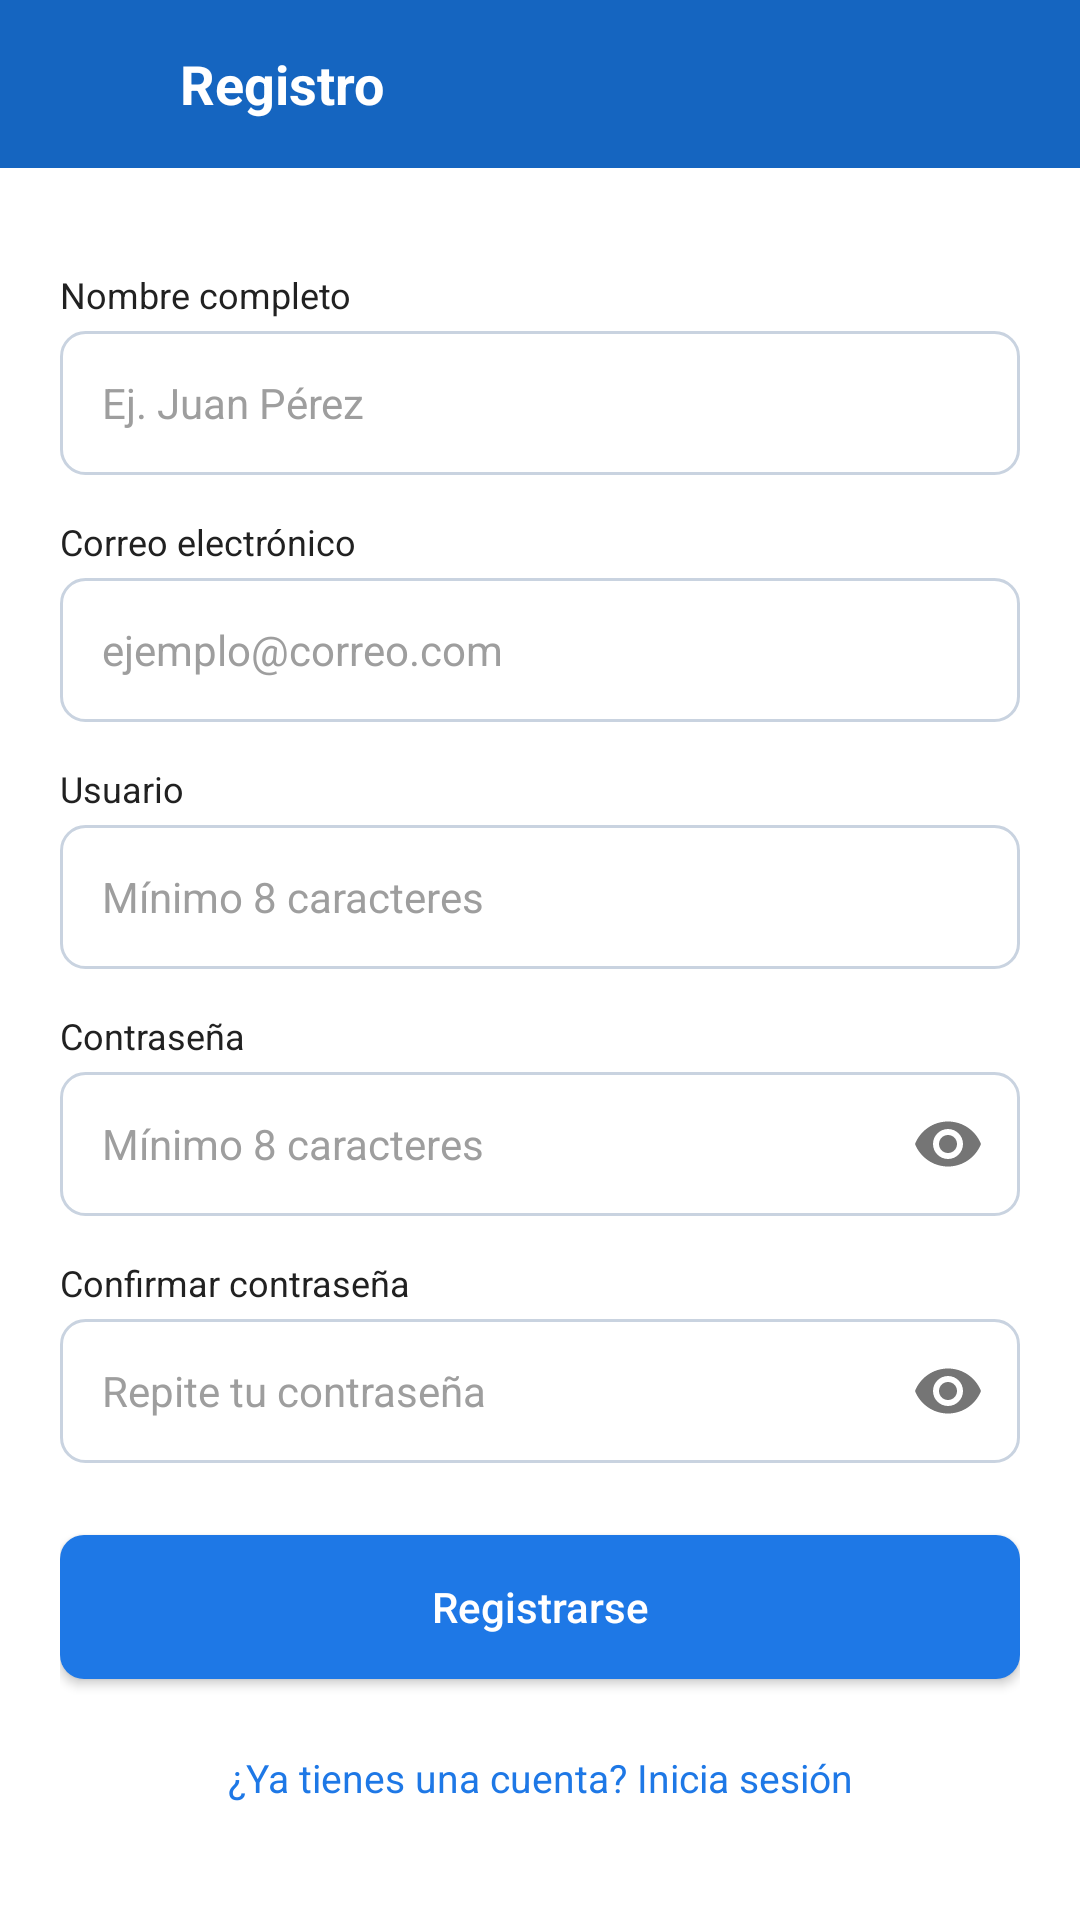

Locate icon controls on the screen. Image size 1080 x 1920, boxes as [x1, y1, x2, y2].
Mostrar contraseña: [915, 1121, 981, 1167], [915, 1368, 981, 1414]
